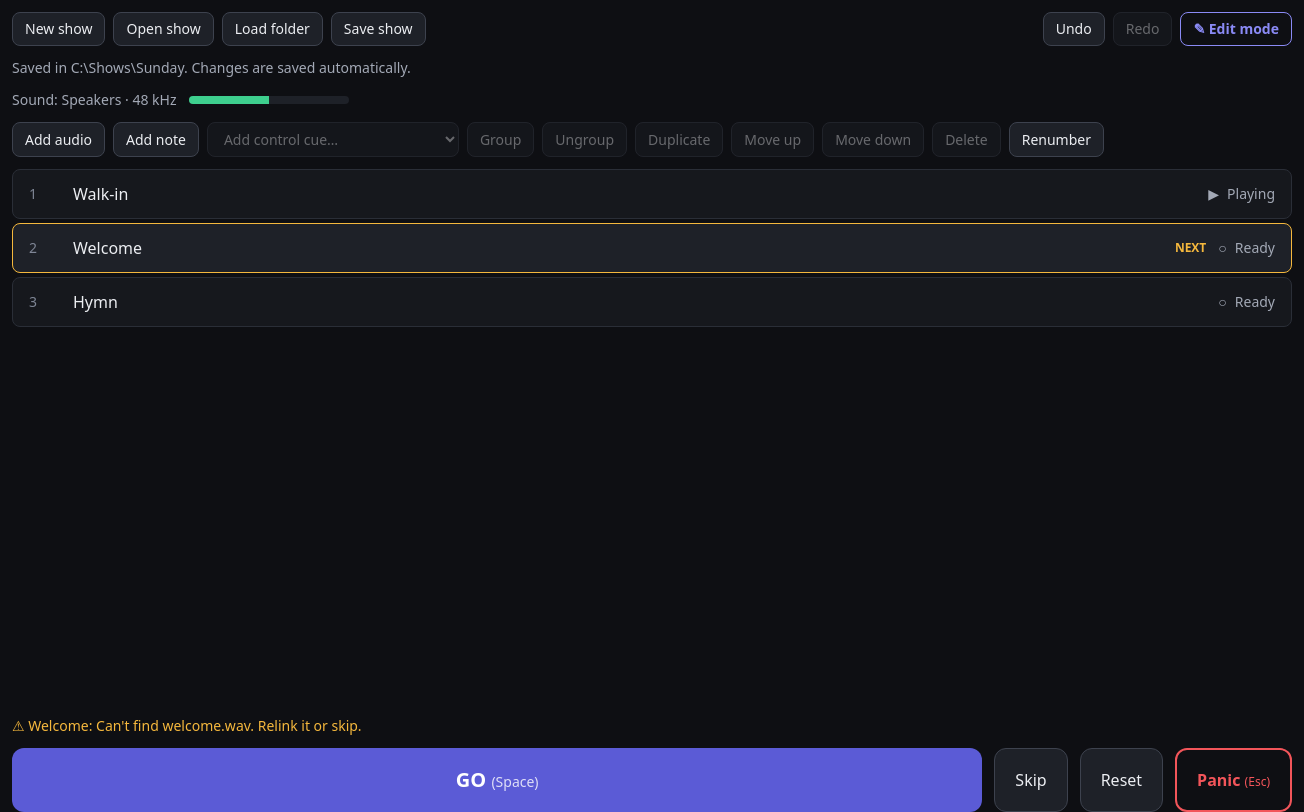
Test: operating the service › shows the core's message when something fails, and keeps it on screen
expect the text "Walk-in" is shown: met, box [73,183,128,205]
Click the button "Save show": click(378, 29) [331,12,426,46]
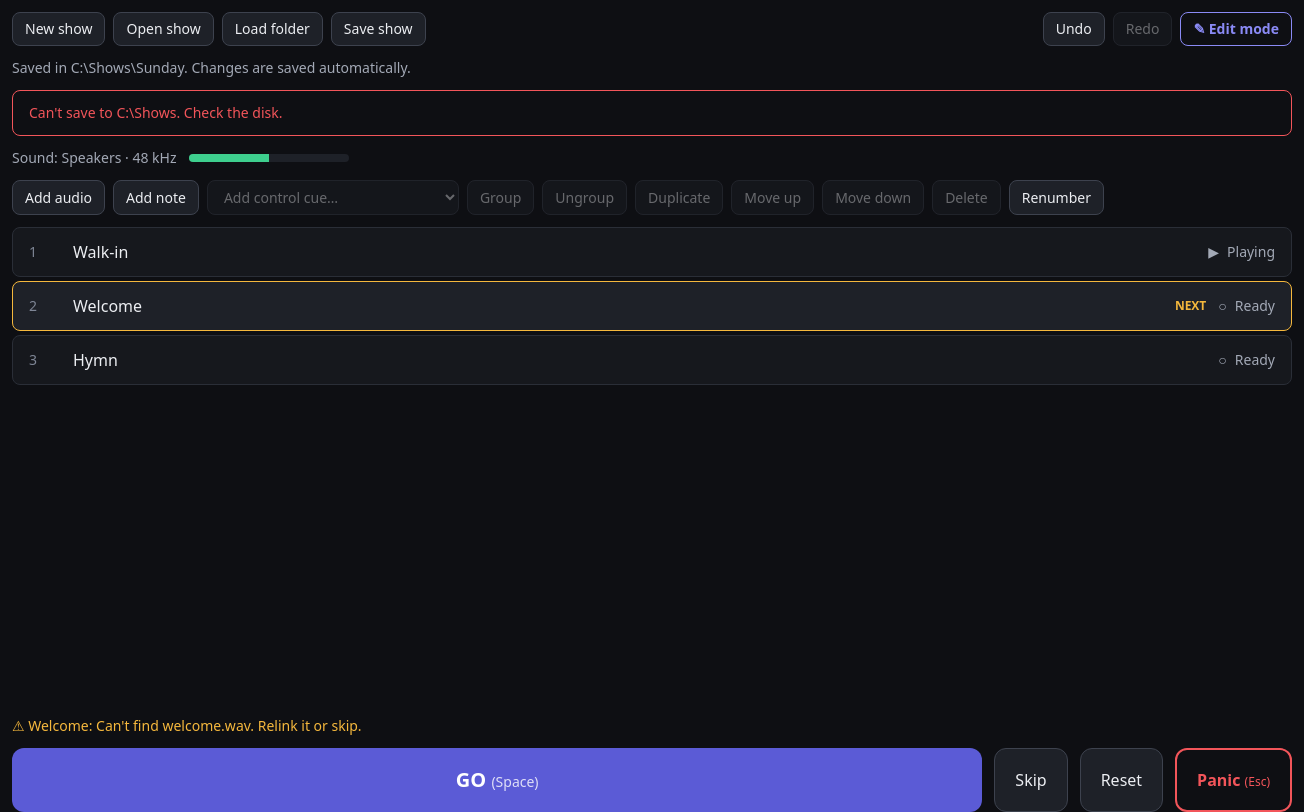
expect the message shows "Can't save to": met, box [29,103,282,122]
